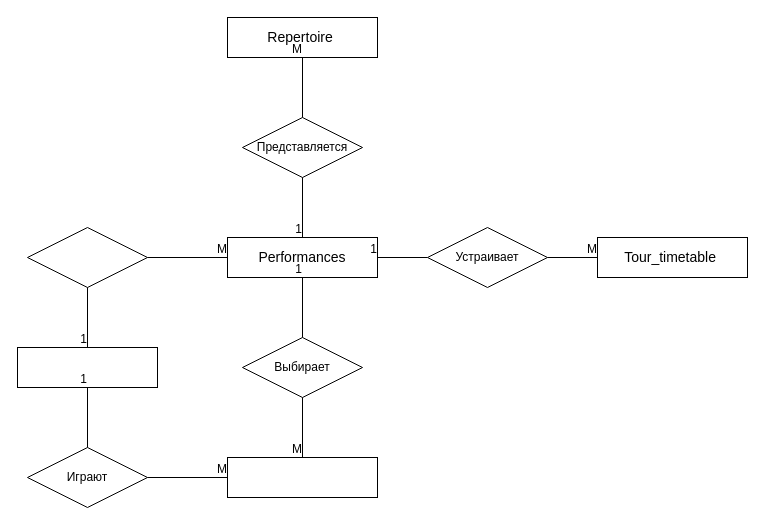
This 765x525 diagram has some shape labels left out. The centre of each missing label's shape, as x and y in pixels:
"Employees" belongs at (x=87, y=367).
"Troupe_perfomance" belongs at (x=302, y=477).
"Создает" belongs at (x=87, y=257).
